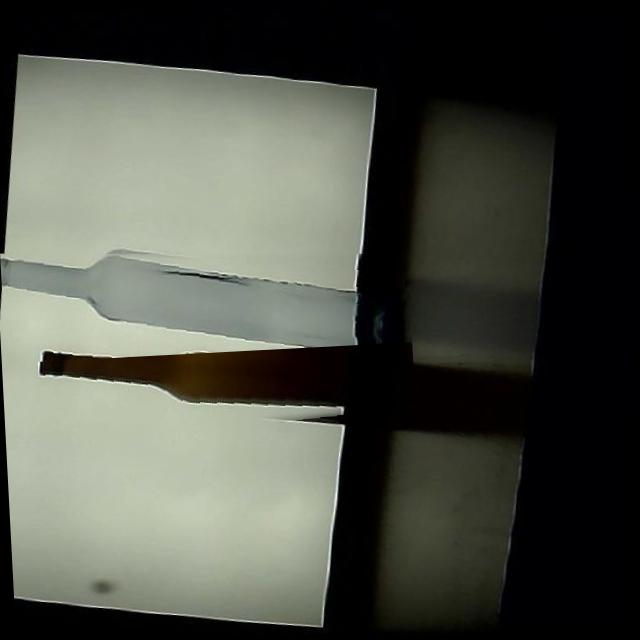Glass: (0, 232, 413, 362), (37, 330, 418, 448)
